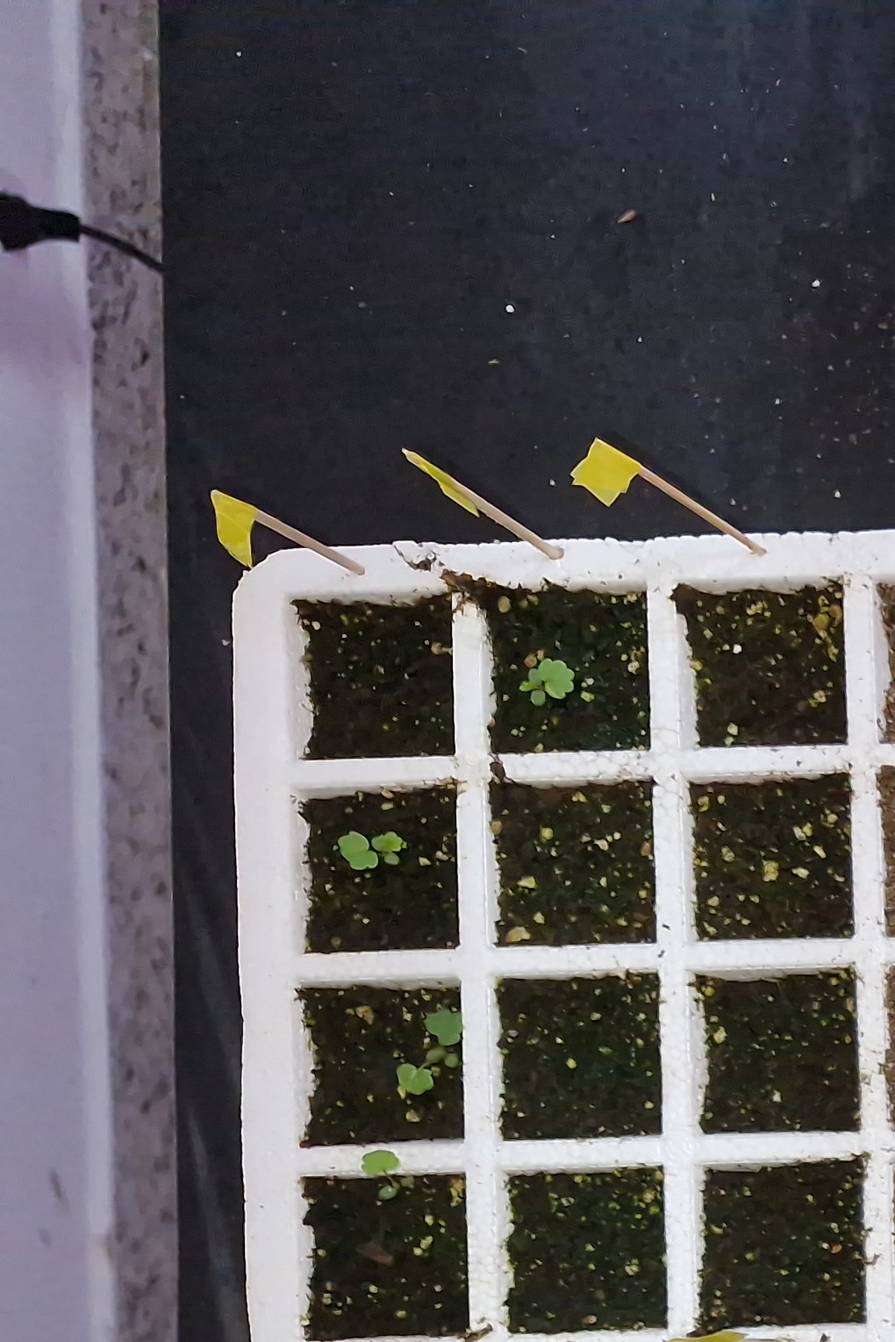Folha: (424, 1009, 465, 1046), (339, 833, 378, 870), (538, 659, 574, 698), (398, 1065, 433, 1095), (362, 1151, 399, 1174), (371, 831, 403, 853), (426, 1047, 445, 1061), (380, 1185, 397, 1200), (531, 691, 545, 706), (445, 1053, 460, 1067), (529, 669, 542, 685), (519, 681, 538, 691), (384, 853, 399, 865), (401, 1175, 414, 1187)
Germinacao: (396, 1008, 464, 1095), (362, 1150, 415, 1200), (520, 659, 574, 706), (338, 832, 402, 871)
